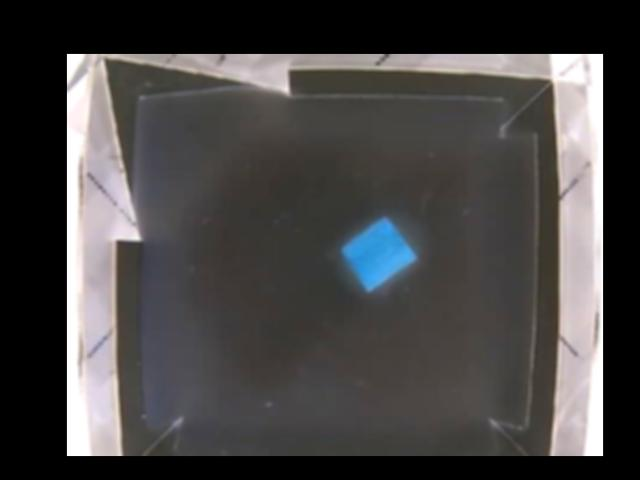Carrot: (344, 219, 417, 287)
